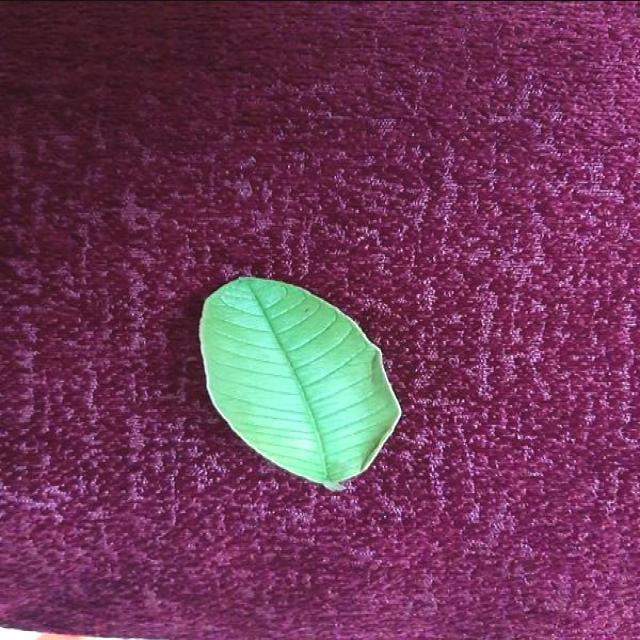leaf: (197, 274, 402, 493)
